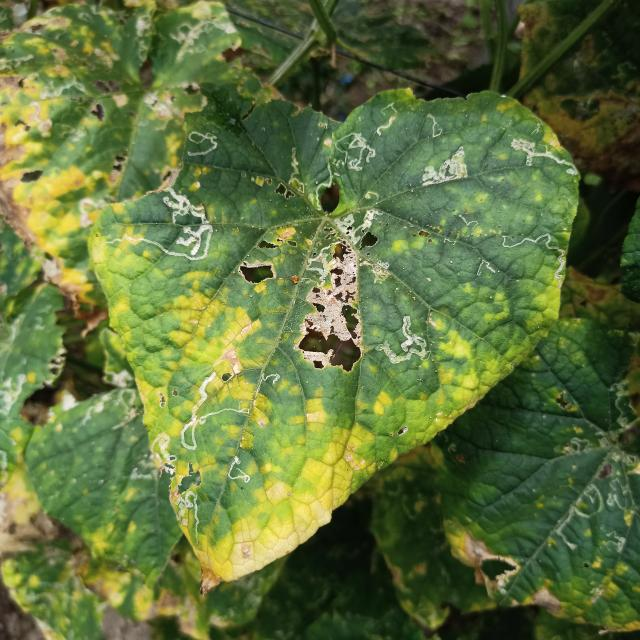disease_cucumber: (82, 160, 551, 586), (0, 30, 132, 297), (292, 244, 366, 370)
